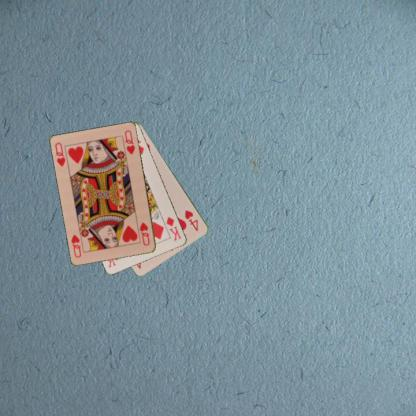4h: (182, 208, 199, 232)
Kd: (164, 214, 183, 242)
Qh: (53, 140, 67, 168), (137, 220, 151, 247)
